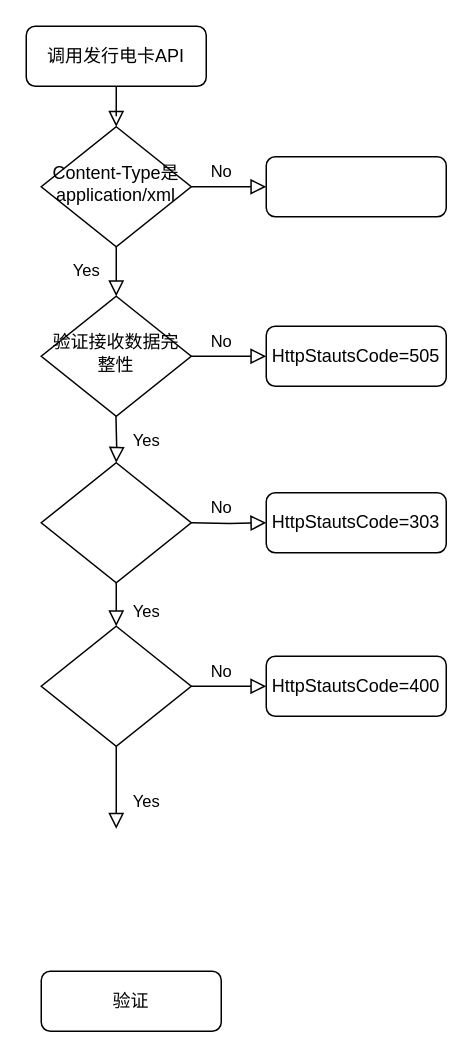
Some shapes in this 473 by 1058 pixel diagram are drawn without their labels. The shapes that lost their labels are listed below. From the top down, each one's centre as x and y in pixels, then its label:
point 355,186: HttpStautsCode=500
point 115,522: 验证接收数据格式
point 115,685: 验证接收数据必须入力项
